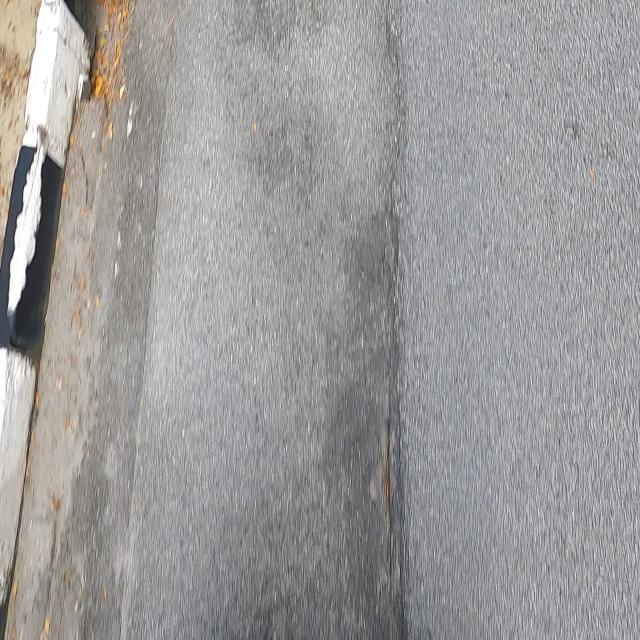Retak-Memanjang: (380, 30, 410, 638)
